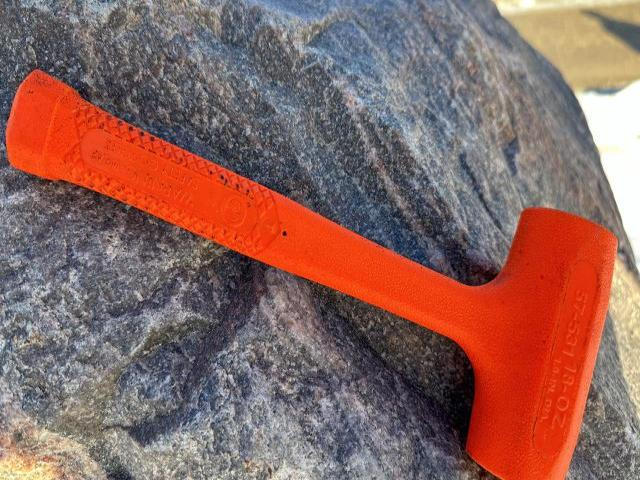hammer: (2, 71, 620, 480)
